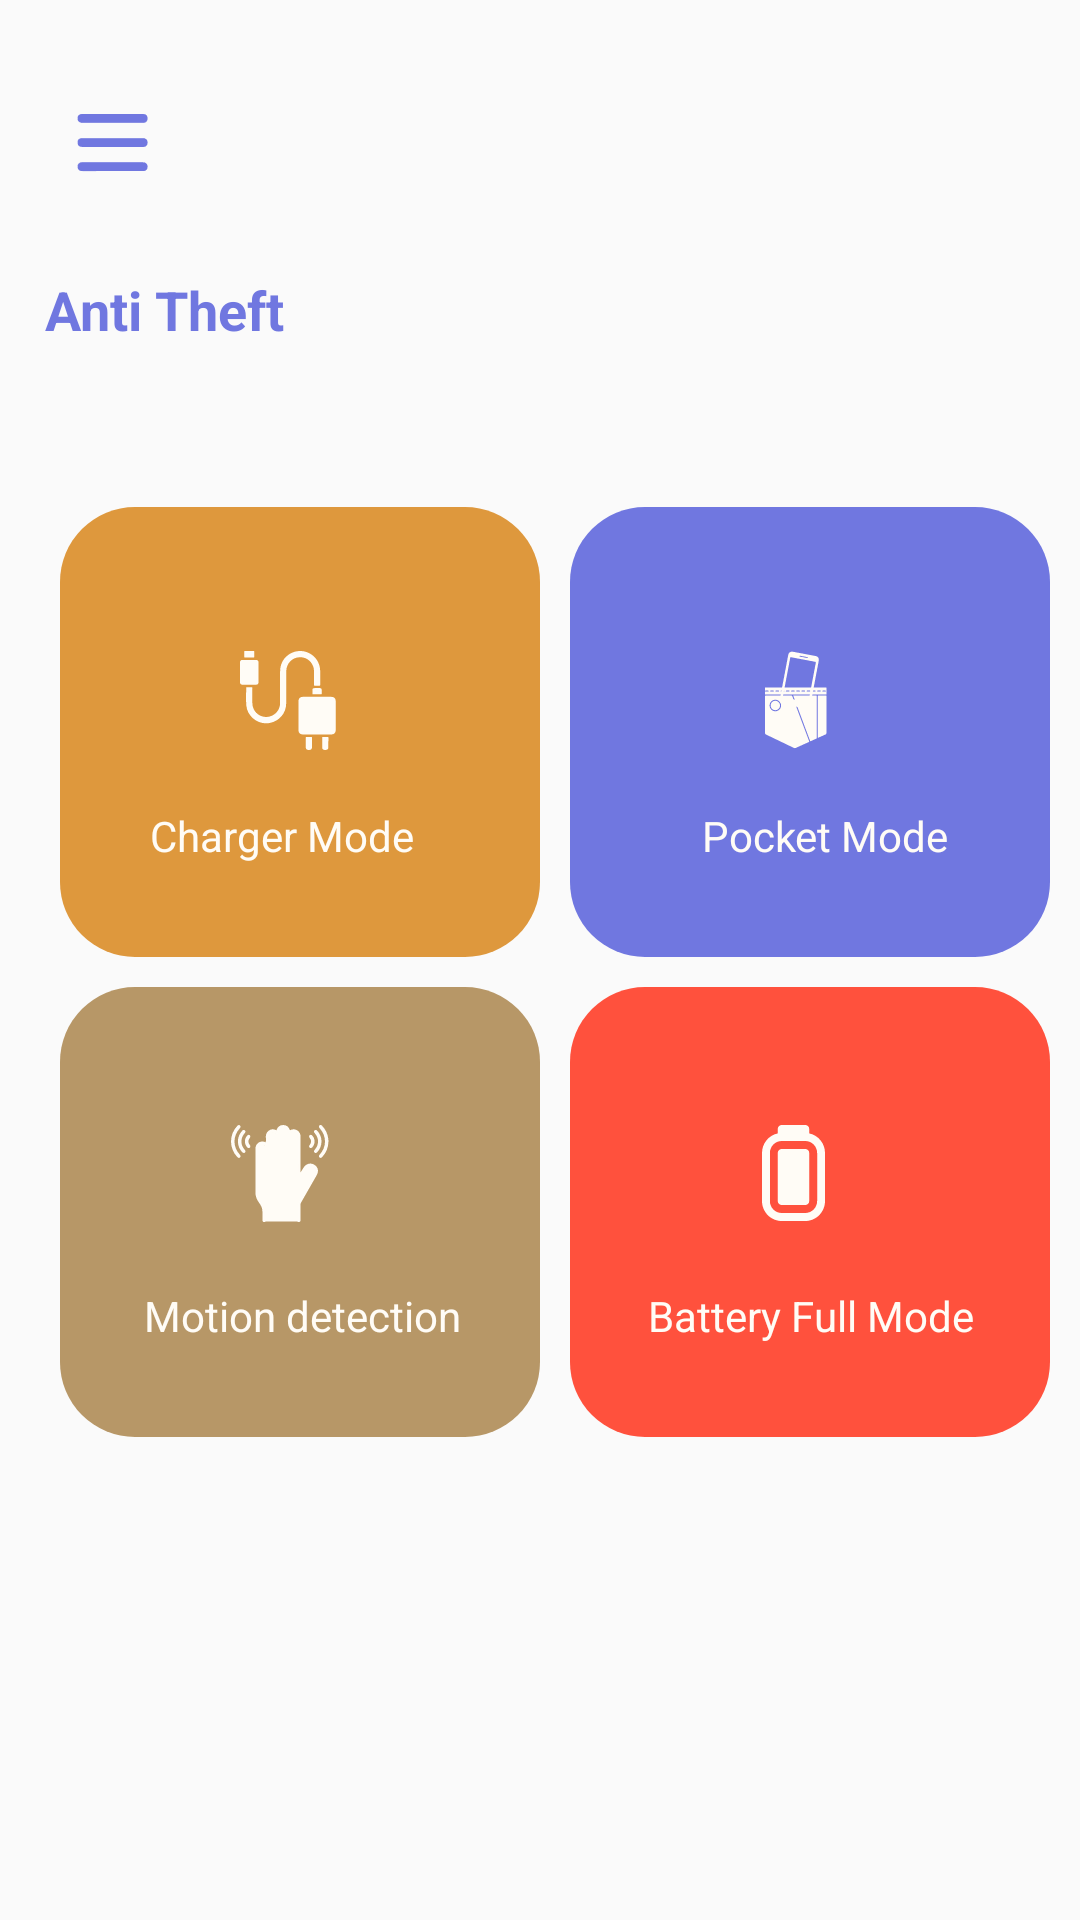

Locate icon controls on the screen. Image size 1080w x 1920h, boxes as {"x1": x1, "y1": y1, "x2": x2, "y2": y2}.
drawer: {"x1": 77, "y1": 114, "x2": 148, "y2": 171}
